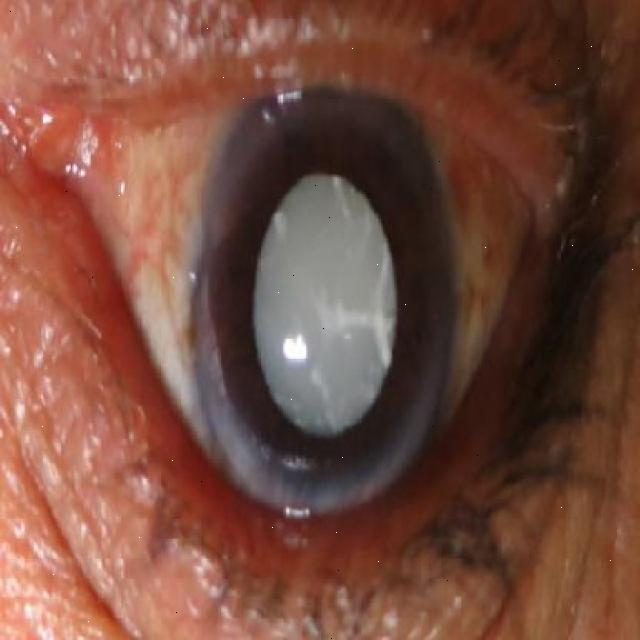Cataract: (179, 76, 456, 521)
